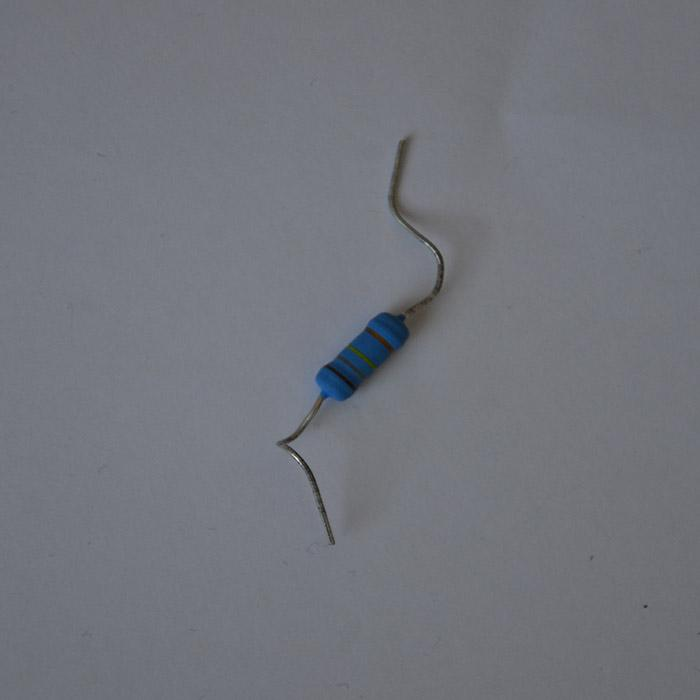resistor: (314, 309, 409, 401)
